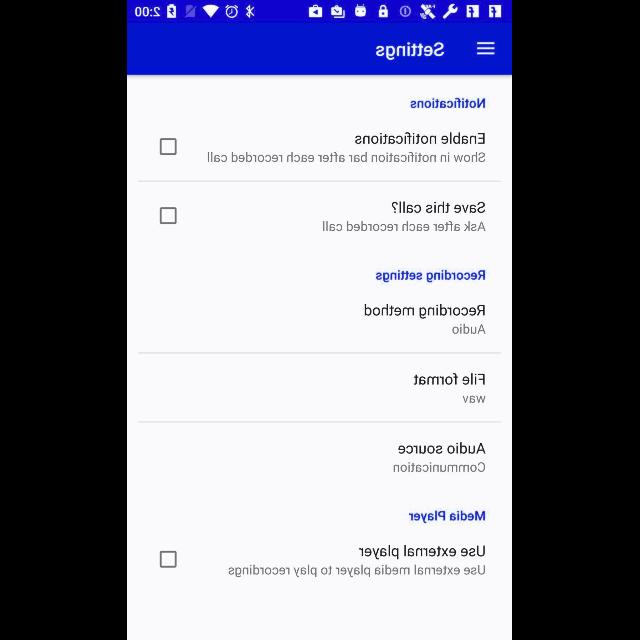checkbox: (160, 550, 178, 568), (160, 138, 178, 156), (160, 208, 178, 225)
icon: (477, 43, 495, 55)
text: (229, 565, 485, 577), (208, 152, 486, 162), (360, 545, 486, 559), (365, 304, 485, 318), (324, 221, 486, 231), (356, 132, 486, 144), (377, 270, 485, 282), (392, 202, 486, 214), (378, 44, 444, 60), (399, 442, 486, 453), (394, 462, 486, 472), (410, 511, 486, 523), (415, 373, 485, 385), (411, 98, 485, 108), (452, 324, 486, 334), (464, 396, 486, 402)
uppertaskbar: (128, 1, 512, 23)
